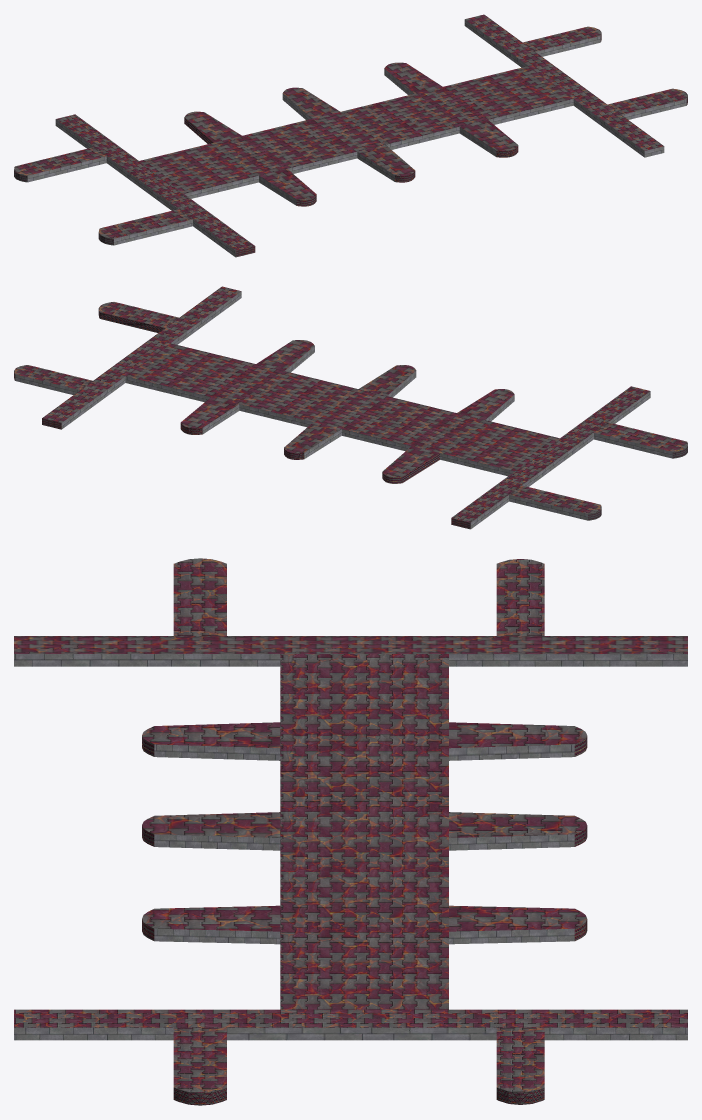
File: parking_lot_2.fbx
3 renders of one model, top to bottom at view 1: azimuth 30°, elevation 25°; view 2: azimuth 150°, elevation 25°; view 3: azimuth 270°, elevation 25°, orthographic. The views are drawn at different scales.
Parts seen in each view (by area): view 1: parking_lot_3.001; view 2: parking_lot_3.001; view 3: parking_lot_3.001.
Boxes of the visible parts, x1,y1,x2,y2 form: parking_lot_3.001: [14, 14, 687, 257]; parking_lot_3.001: [14, 286, 687, 529]; parking_lot_3.001: [14, 558, 687, 1105].
Size of the model in its own units: 237 by 2.62 by 126.
